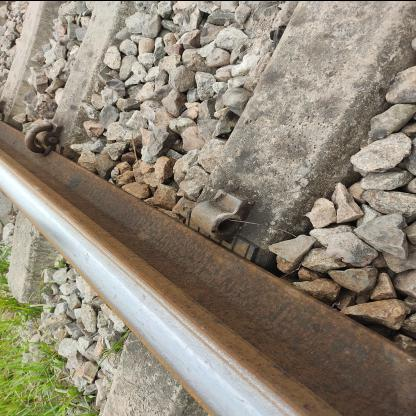Defective 1: (172, 166, 282, 251)
